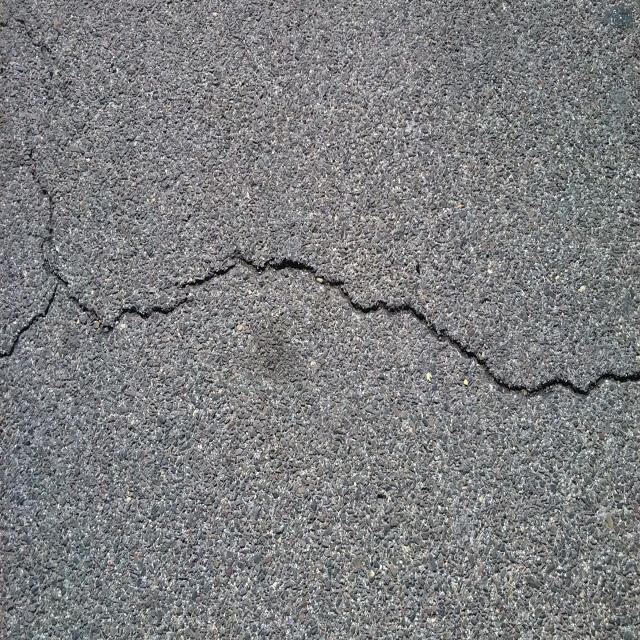transverse: (0, 155, 636, 504)
